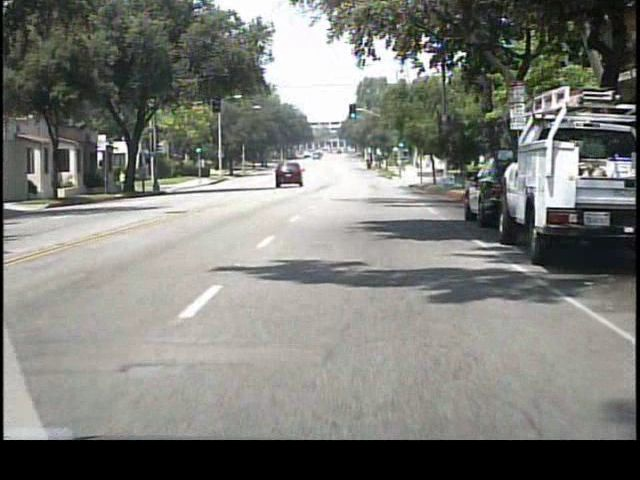person: (122, 170, 129, 192)
